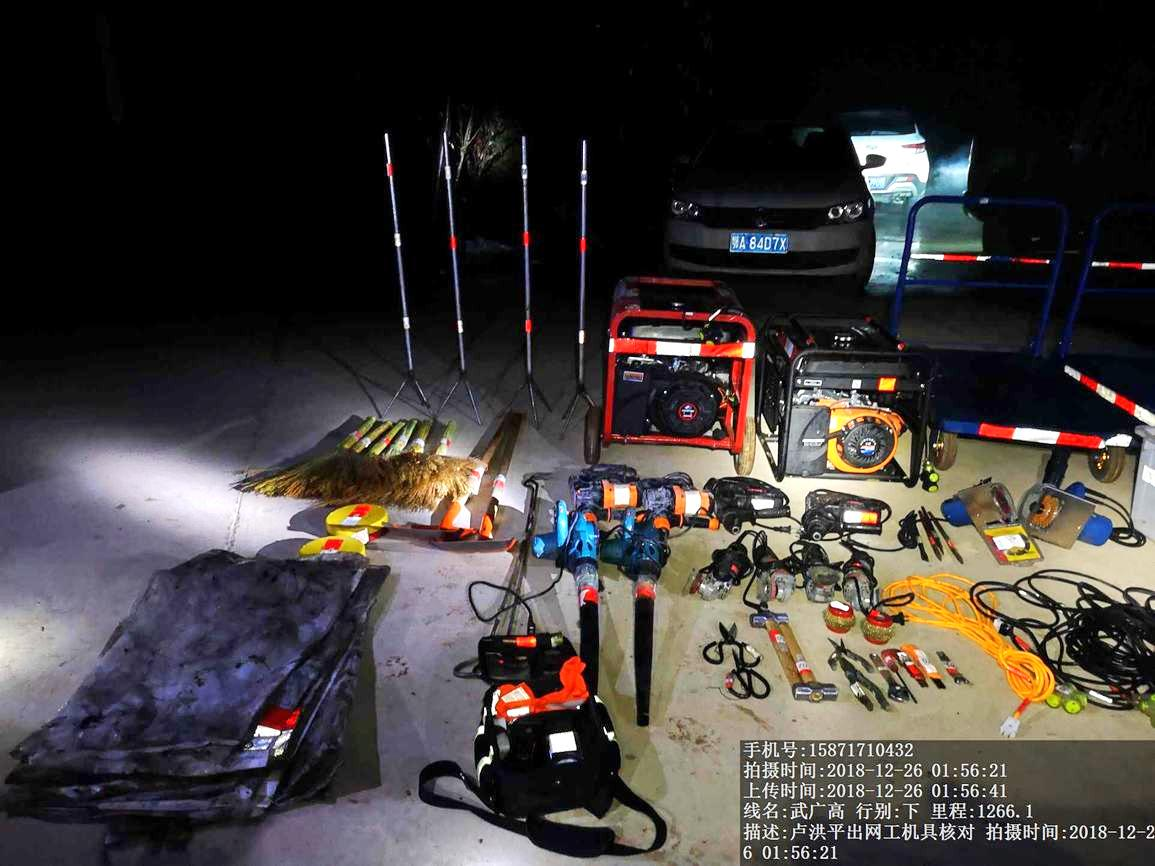BZD: (10, 555, 413, 818)
DJ: (572, 269, 768, 468), (761, 299, 940, 492)
DMJ: (684, 542, 752, 603), (753, 537, 797, 603), (797, 541, 840, 603), (839, 544, 878, 612)
DX: (888, 569, 1081, 723)
DZ: (796, 480, 900, 546), (707, 472, 799, 537)
GFJ: (602, 521, 683, 733), (533, 498, 604, 698)
GJB: (446, 667, 662, 833)
JC: (296, 533, 371, 563), (326, 503, 395, 531)
SB: (234, 417, 381, 495)
TC: (898, 191, 1134, 482)
TQ: (409, 411, 512, 550)
